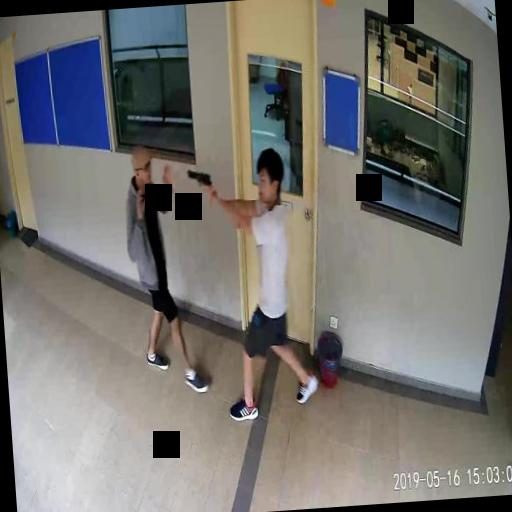Handgun: (187, 166, 212, 202)
